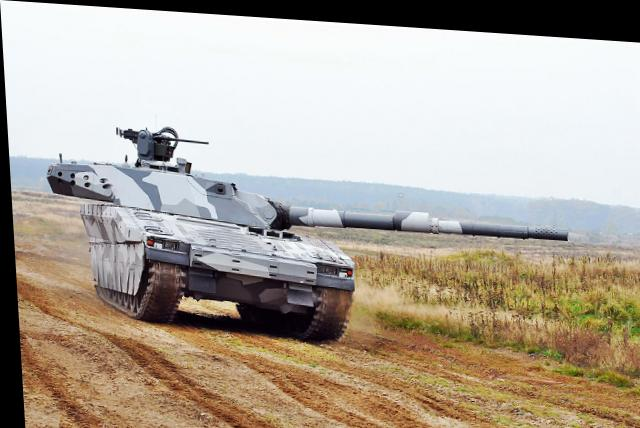tank: (38, 150, 365, 328)
